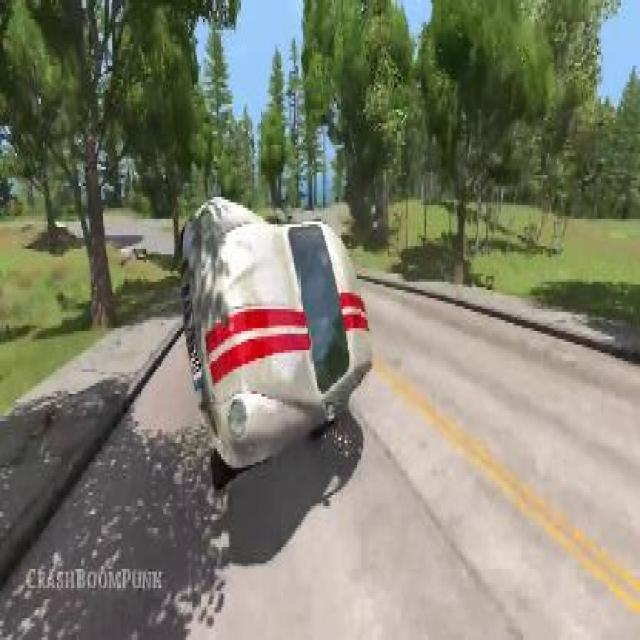accident: (178, 186, 377, 490)
